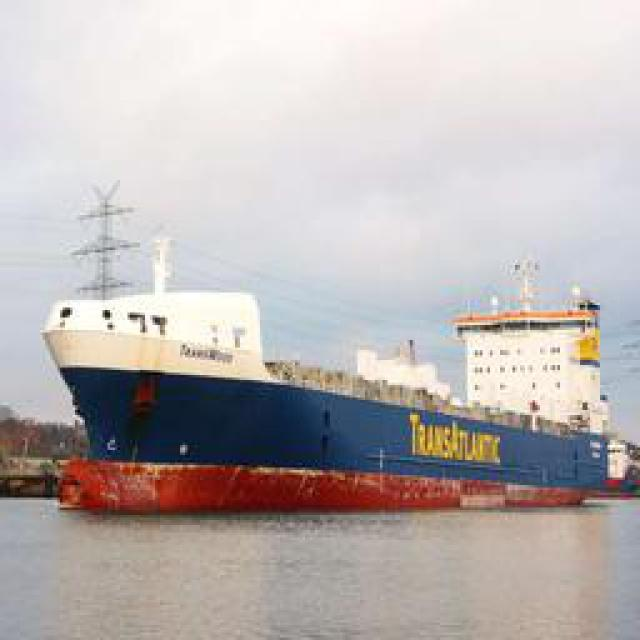Ship: (21, 281, 621, 511)
